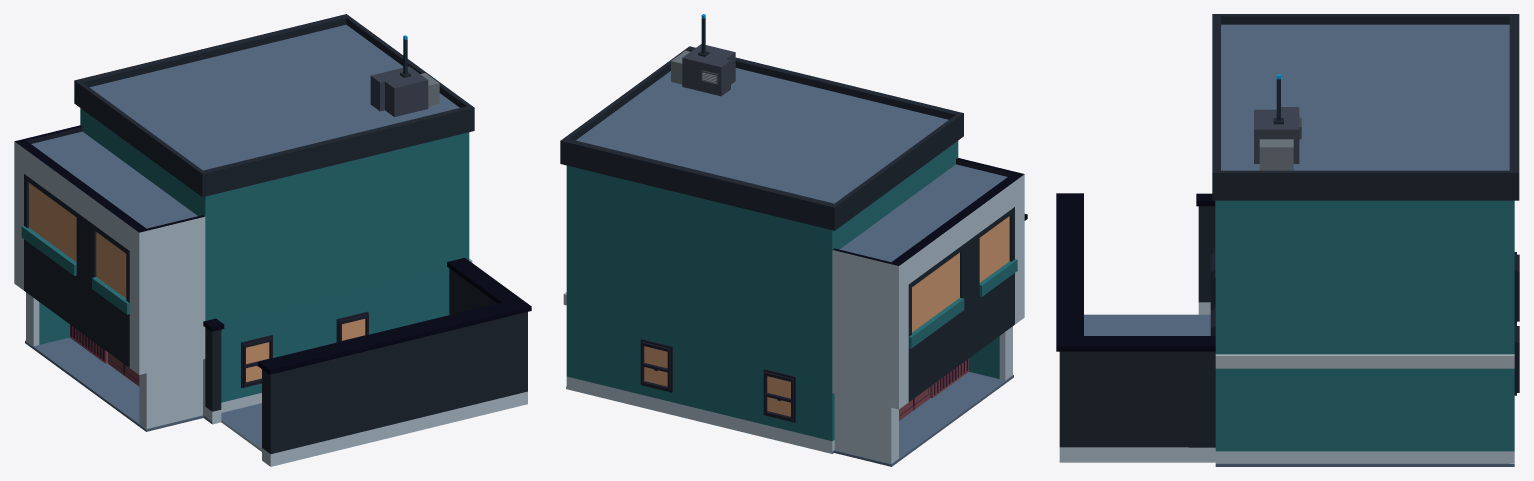
Rendered from Building_TownOffice.fbx.
3 views of the same model, side by side, from view 1: azimuth 30°, elevation 25°; view 2: azimuth 150°, elevation 25°; view 3: azimuth 270°, elevation 25° (orthographic). The views are drawn at different scales.
Parts seen in each view (by area): view 1: Cube.450; view 2: Cube.450; view 3: Cube.450.
Part boxes in pixels (x1,y1,x2,y2): Cube.450: (14, 14, 531, 466); Cube.450: (560, 14, 1027, 466); Cube.450: (1056, 14, 1519, 466).
Bounding box in the file's own units: 1065 × 933 × 1060.
